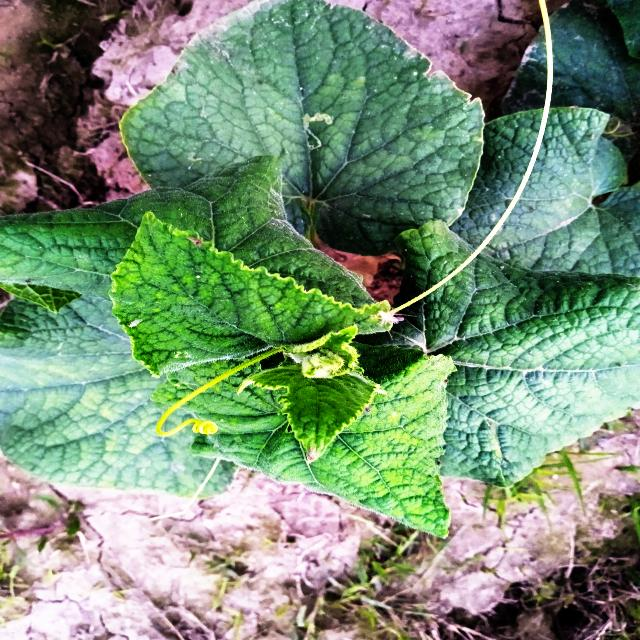Fresh-Leaf: (110, 211, 399, 381), (240, 359, 388, 469)
